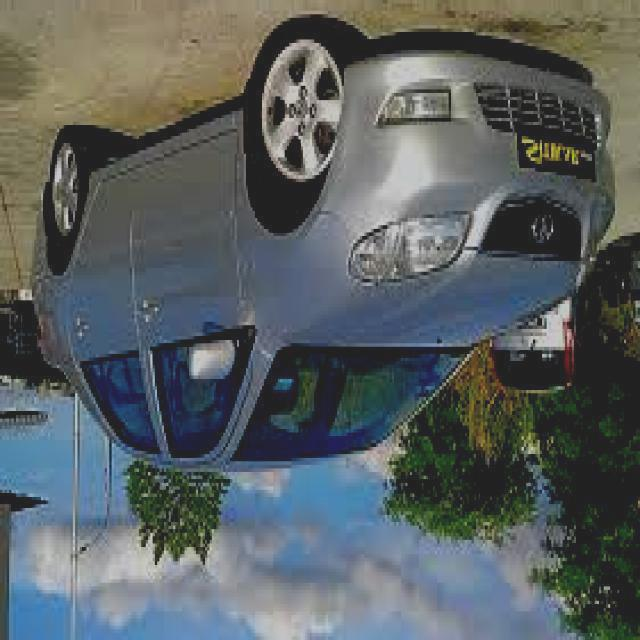ToyotaVios: (30, 19, 616, 474)
